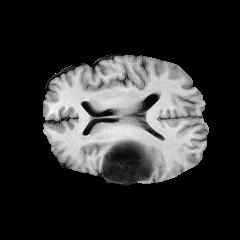glioma: (101, 137, 157, 183)
